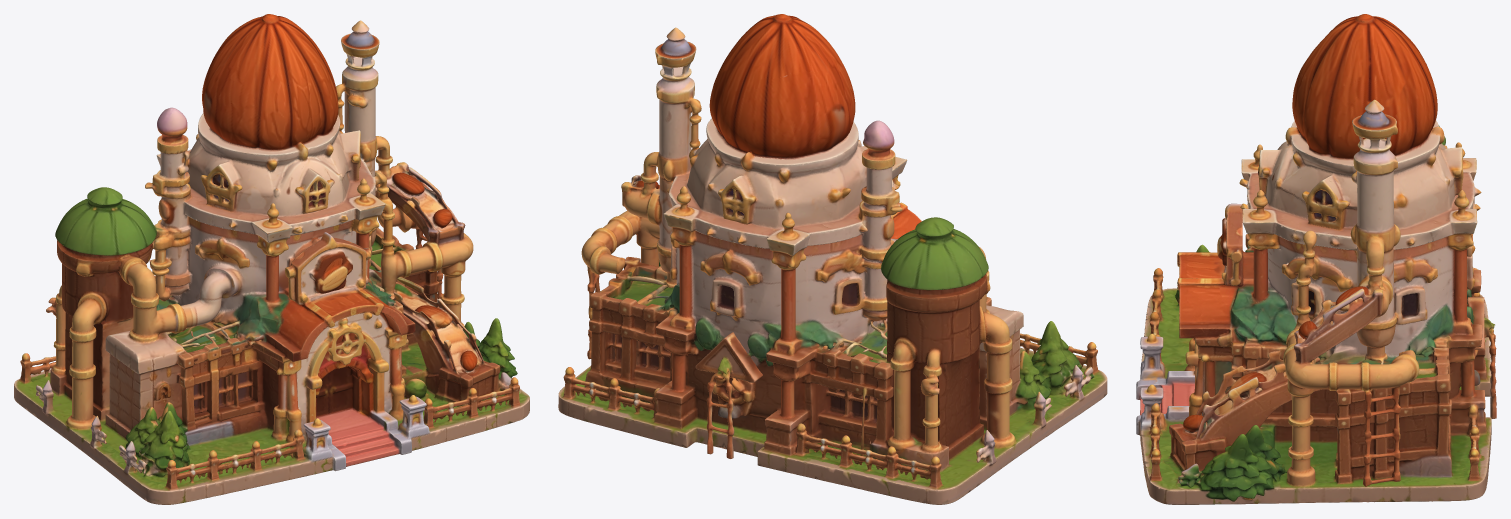
The model's file is Meshy_AI_Copper_Dome_Workshop_20261118_texture.fbx.
The picture shows the model from 3 angles, left to right: view 1: azimuth 30°, elevation 25°; view 2: azimuth 150°, elevation 25°; view 3: azimuth 270°, elevation 25°; orthographic projection. The views are drawn at different scales.
Parts seen in each view (by area): view 1: Mesh_0; view 2: Mesh_0; view 3: Mesh_0.
Boxes of the visible parts, left/top/right/bottom form: Mesh_0: left=14, top=14, right=529, bottom=504; Mesh_0: left=558, top=14, right=1107, bottom=504; Mesh_0: left=1136, top=14, right=1496, bottom=504.
Size of the model in its own units: 189 by 170 by 138.
Materials: 1 (1 with a texture image).
